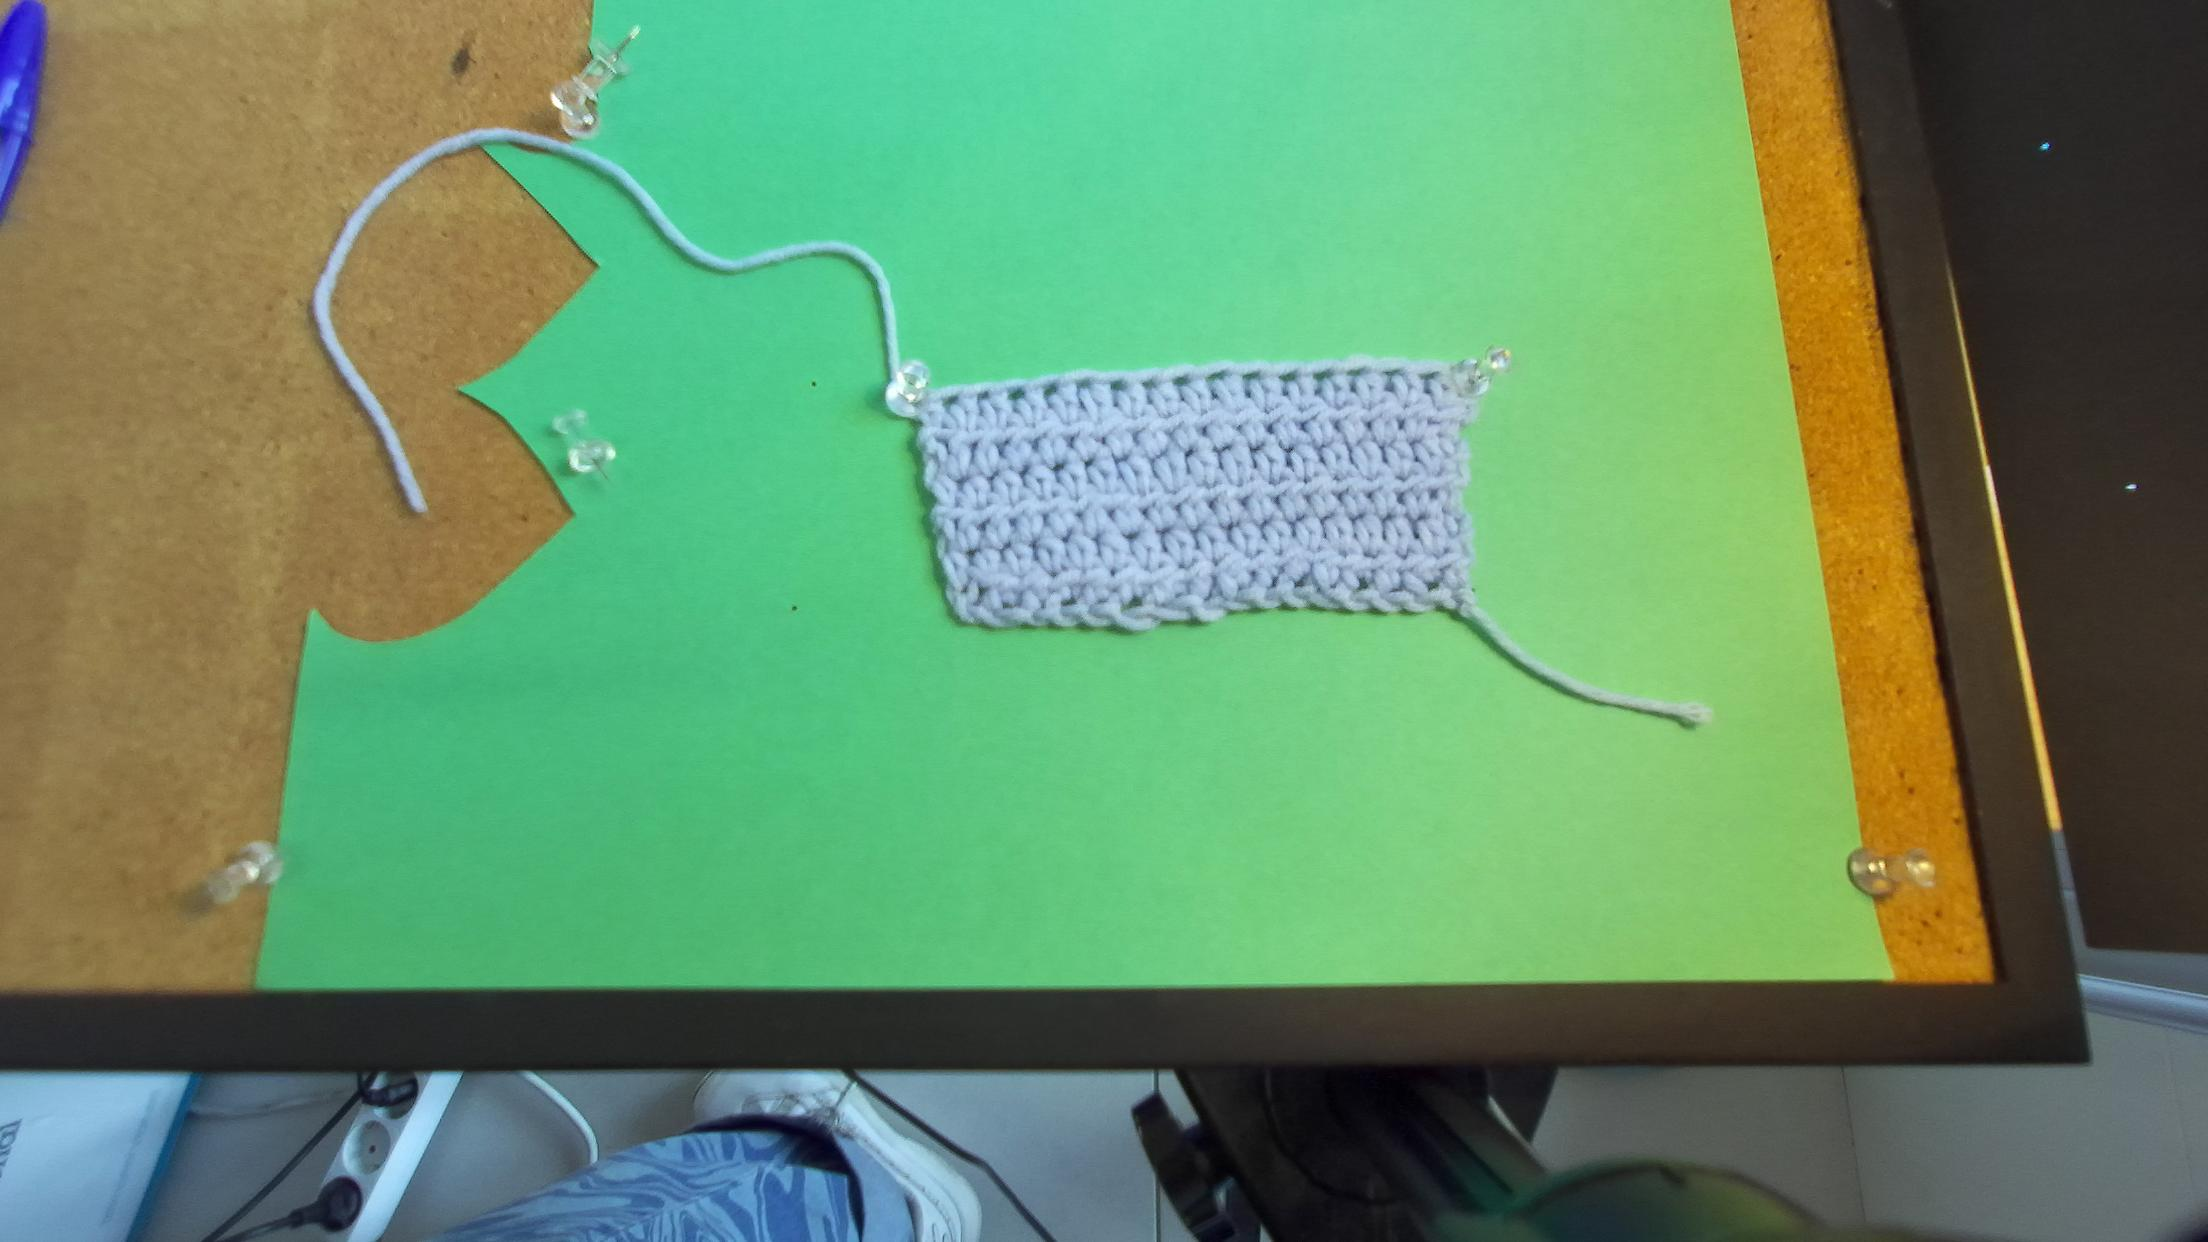hole: (1312, 367, 1335, 382), (942, 393, 958, 411), (1007, 385, 1027, 400), (1204, 370, 1228, 382), (1277, 369, 1298, 382), (1075, 378, 1090, 396), (1109, 378, 1127, 393), (1345, 365, 1368, 378), (1171, 375, 1192, 387), (1043, 382, 1059, 399), (1137, 378, 1157, 390), (1240, 370, 1262, 381), (1413, 372, 1442, 379), (977, 387, 990, 402), (1383, 369, 1404, 376)
swatch: (890, 359, 1510, 645)
